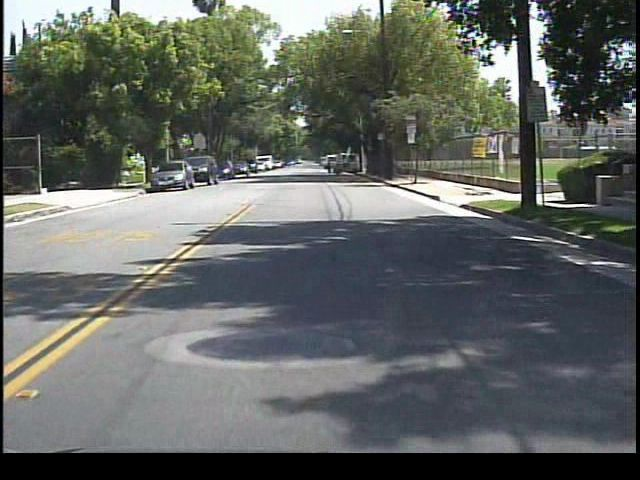person: (322, 154, 337, 180)
